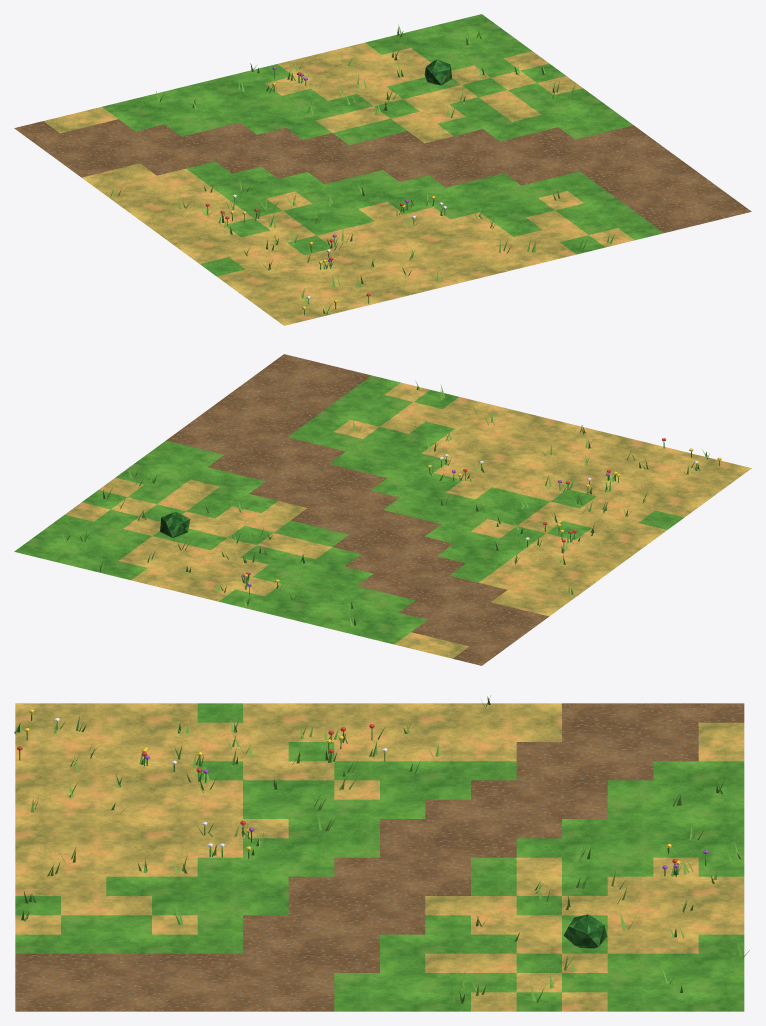
The model's file is chunk_10_11.glb.
The picture shows the model from 3 angles, top to bottom: view 1: azimuth 30°, elevation 25°; view 2: azimuth 150°, elevation 25°; view 3: azimuth 270°, elevation 25°; orthographic projection. The views are drawn at different scales.
Parts seen in each view (by area): view 1: chunk_10_11; view 2: chunk_10_11; view 3: chunk_10_11.
Boxes of the visible parts, x1,y1,x2,y2 form: chunk_10_11: [14, 14, 751, 325]; chunk_10_11: [14, 354, 751, 665]; chunk_10_11: [14, 696, 749, 1011].
Bounding box in the file's own units: 16 × 0.8583 × 16.2.
Materials: 10 (5 with a texture image).
